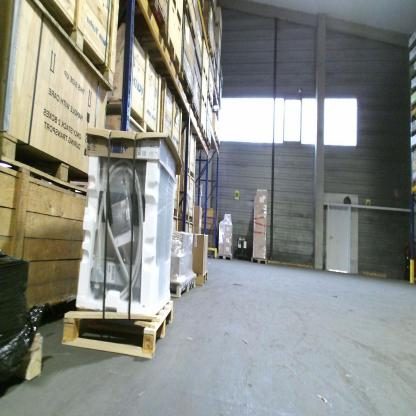pallet: (58, 289, 176, 361), (0, 330, 46, 395), (161, 69, 195, 99), (143, 2, 168, 42), (167, 273, 196, 300), (181, 1, 197, 42), (176, 100, 200, 125), (194, 268, 209, 289), (204, 35, 214, 61), (250, 253, 268, 267), (218, 250, 235, 261), (207, 92, 214, 110), (408, 40, 416, 53), (206, 134, 212, 151), (408, 56, 415, 68), (212, 128, 218, 141), (410, 69, 416, 82), (216, 135, 221, 150), (409, 100, 415, 111), (410, 86, 415, 96)
